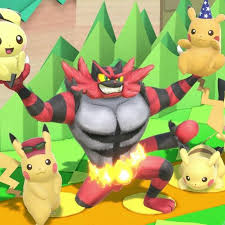pikachu: (1, 121, 68, 225), (172, 5, 225, 131), (173, 132, 225, 190)
